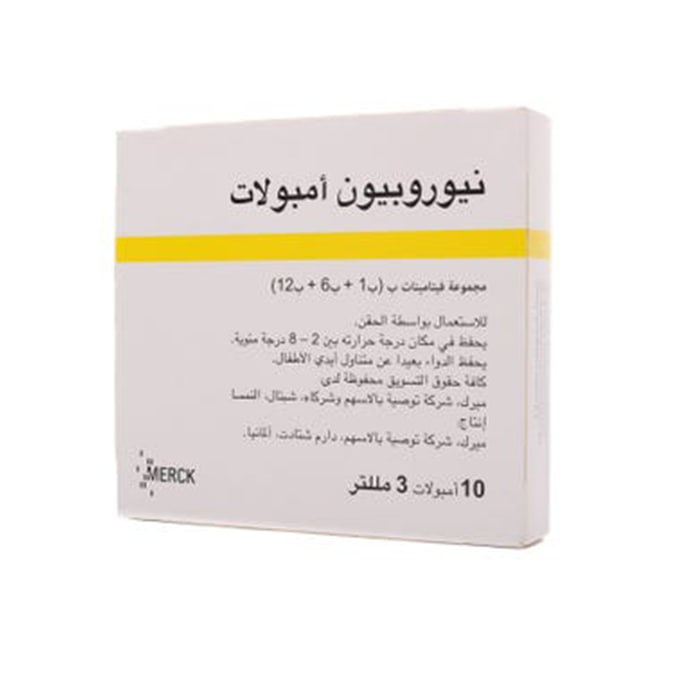Medicine: (104, 104, 558, 548)
